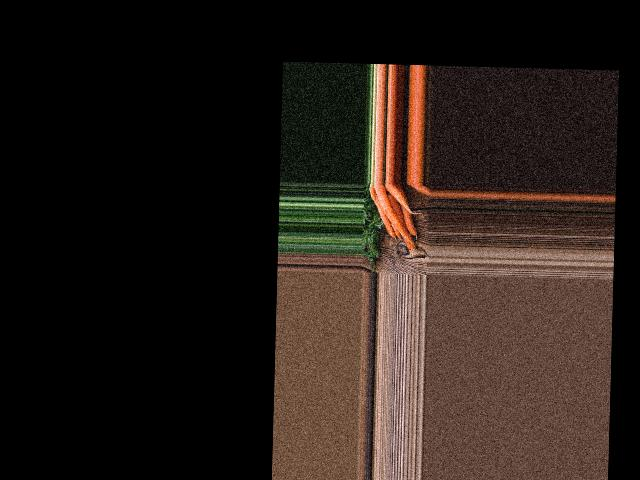carrot: (385, 185, 412, 212)
